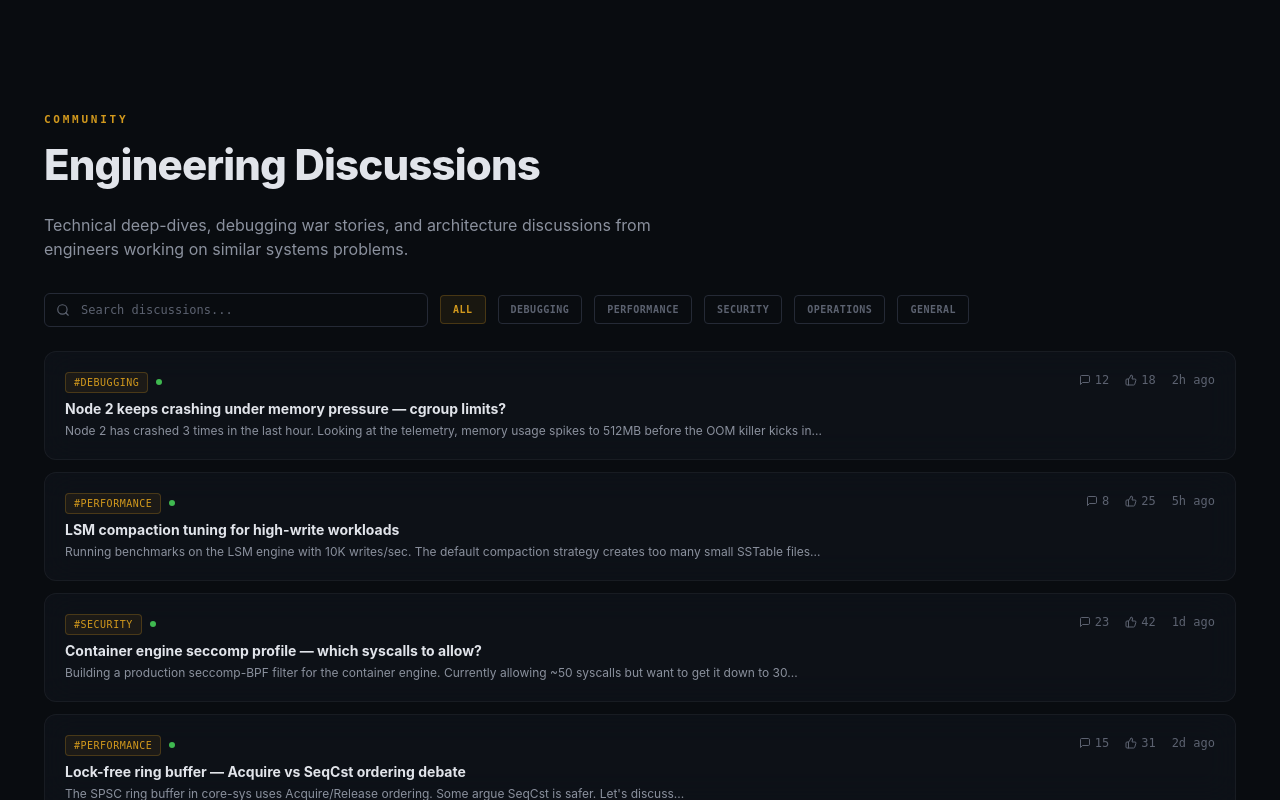
Test: Forum › filters threads by search query
Step 1. Type "seccomp" into the field with placeholder "Search discussions..." → (236, 310), box top-left (44, 293), bottom-right (428, 327)
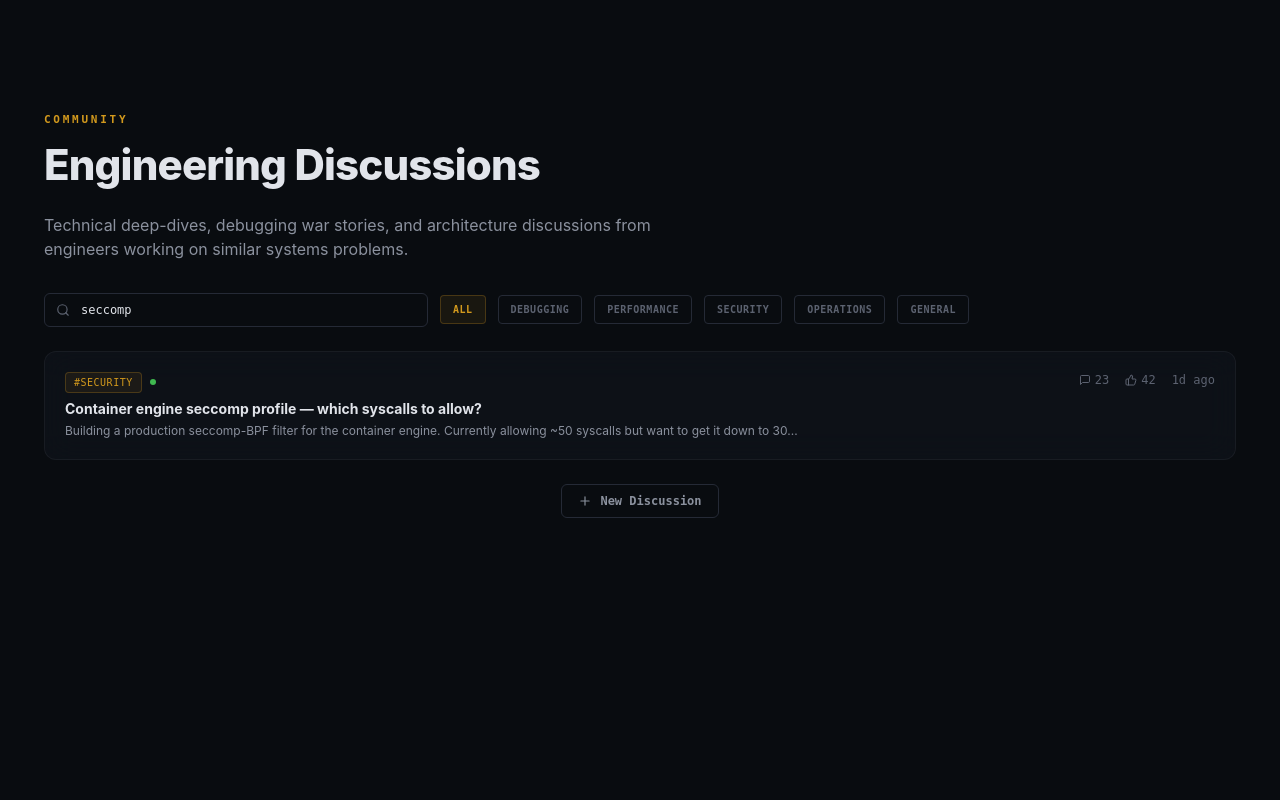
Expected: the heading "Container engine seccomp profile — which syscalls to allow?" is shown, top-left (65, 400), bottom-right (482, 417)
Expected: the heading "Node 2 keeps crashing" is gone
